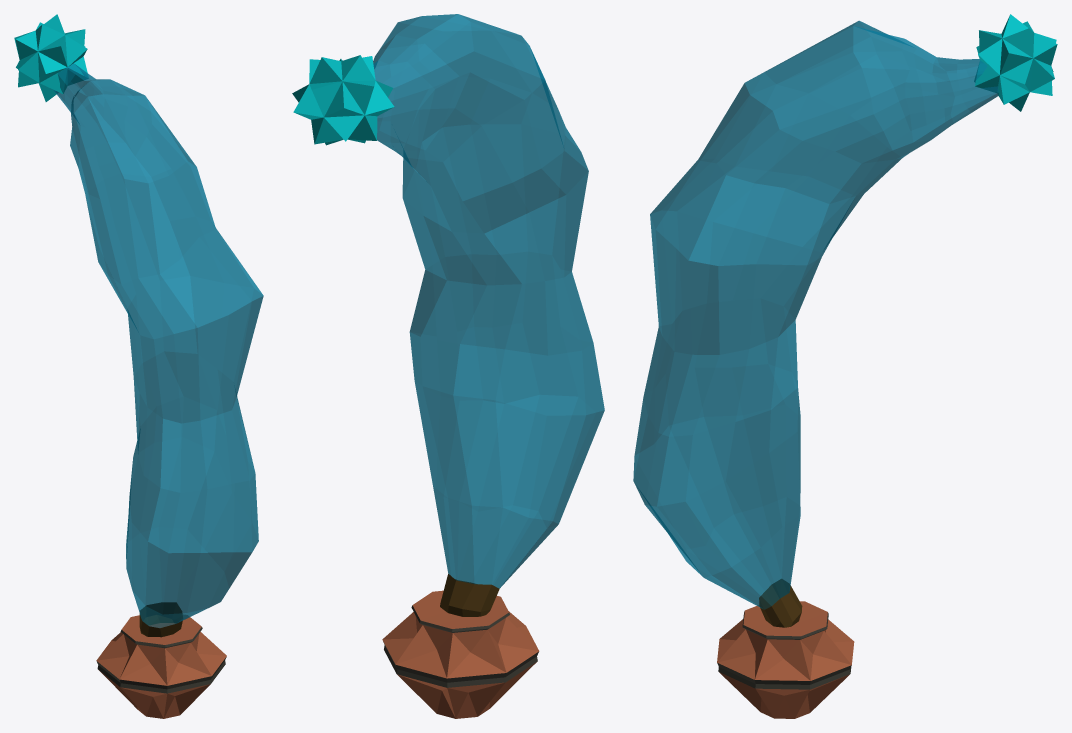
File: Bananaglace.fbx
The picture shows the model from 3 angles, left to right: view 1: azimuth 30°, elevation 25°; view 2: azimuth 150°, elevation 25°; view 3: azimuth 270°, elevation 25°; orthographic projection. The views are drawn at different scales.
Visible parts, largest first — view 1: polySurface4, pCylinder2, pPlatonic1; view 2: polySurface4, pCylinder2, pPlatonic1; view 3: polySurface4, pCylinder2, pPlatonic1.
Part boxes in pixels (box(x1,y1,x2,y2)): polySurface4: box(53, 63, 263, 637); pCylinder2: box(96, 615, 226, 718); pPlatonic1: box(14, 14, 87, 101); polySurface4: box(373, 14, 604, 616); pCylinder2: box(382, 590, 539, 718); pPlatonic1: box(292, 55, 394, 145); polySurface4: box(633, 20, 998, 627); pCylinder2: box(717, 601, 854, 718); pPlatonic1: box(974, 14, 1057, 111).
Bounding box in the file's own units: 2.79 × 12.74 × 7.16.
